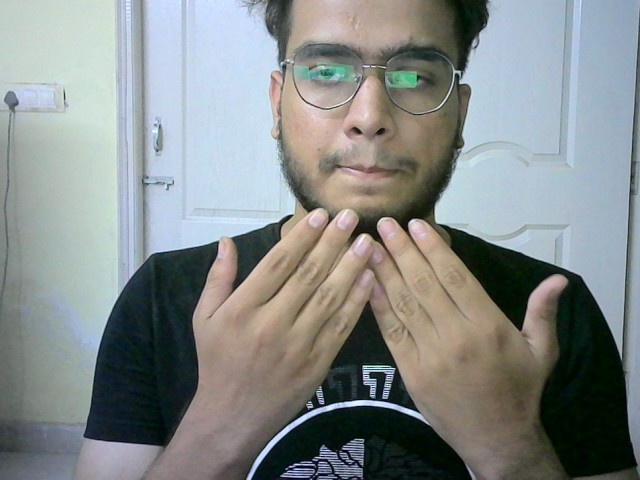Thank You: (190, 206, 567, 406)
